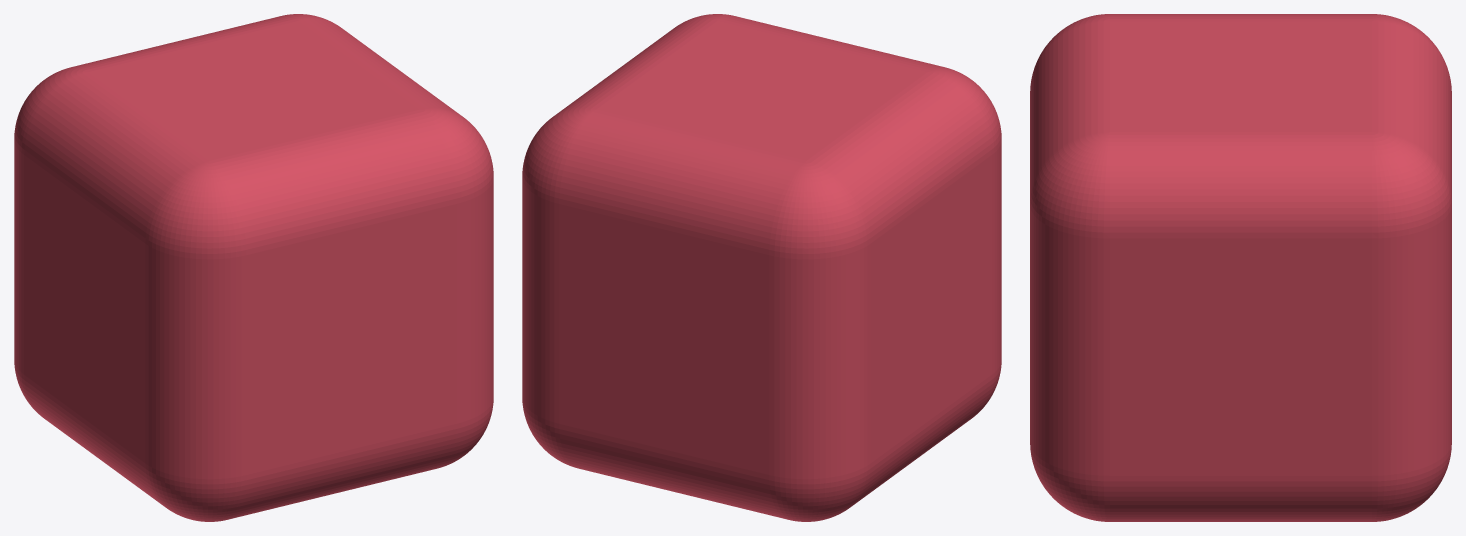
3 renders of one model, left to right at view 1: azimuth 30°, elevation 25°; view 2: azimuth 150°, elevation 25°; view 3: azimuth 270°, elevation 25°, orthographic. The views are drawn at different scales.
Visible parts, largest first — view 1: Mesh_Mesh_head_geo.001_lambert2SG.001; view 2: Mesh_Mesh_head_geo.001_lambert2SG.001; view 3: Mesh_Mesh_head_geo.001_lambert2SG.001.
Boxes of the visible parts, <box> form: Mesh_Mesh_head_geo.001_lambert2SG.001: <box>14,14,493,521</box>; Mesh_Mesh_head_geo.001_lambert2SG.001: <box>522,14,1001,521</box>; Mesh_Mesh_head_geo.001_lambert2SG.001: <box>1030,14,1451,521</box>.
Bounding box in the file's own units: 20 × 20 × 20.
